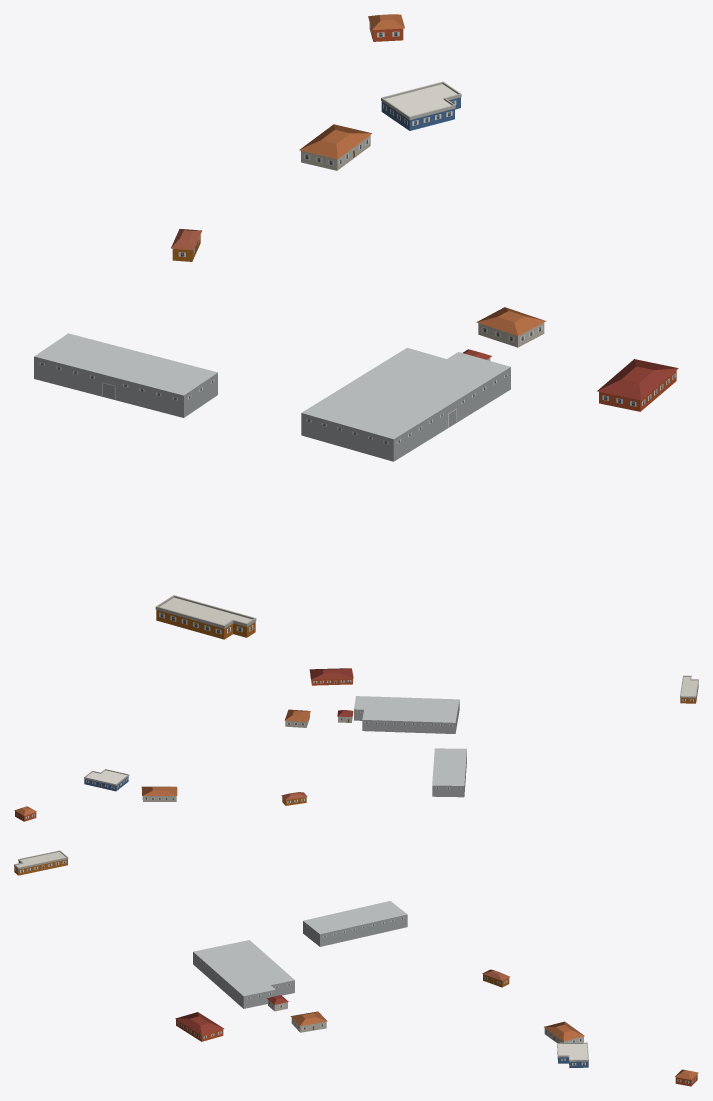
File: msb_palmbeach_m22_m13.glb
3 renders of one model, top to bottom at view 1: azimuth 30°, elevation 25°; view 2: azimuth 150°, elevation 25°; view 3: azimuth 270°, elevation 25°, orthographic. The views are drawn at different scales.
Visible parts, largest first — view 1: msb_palmbeach_m22_m13_lod0; view 2: msb_palmbeach_m22_m13_lod0; view 3: msb_palmbeach_m22_m13_lod0.
Boxes of the visible parts, <box> form: msb_palmbeach_m22_m13_lod0: <box>34,14,678,639</box>; msb_palmbeach_m22_m13_lod0: <box>14,668,698,821</box>; msb_palmbeach_m22_m13_lod0: <box>14,850,698,1086</box>.
Size of what is drawn, in the model's own units: 236 by 8.43 by 308.
3 materials, 1 textured.
